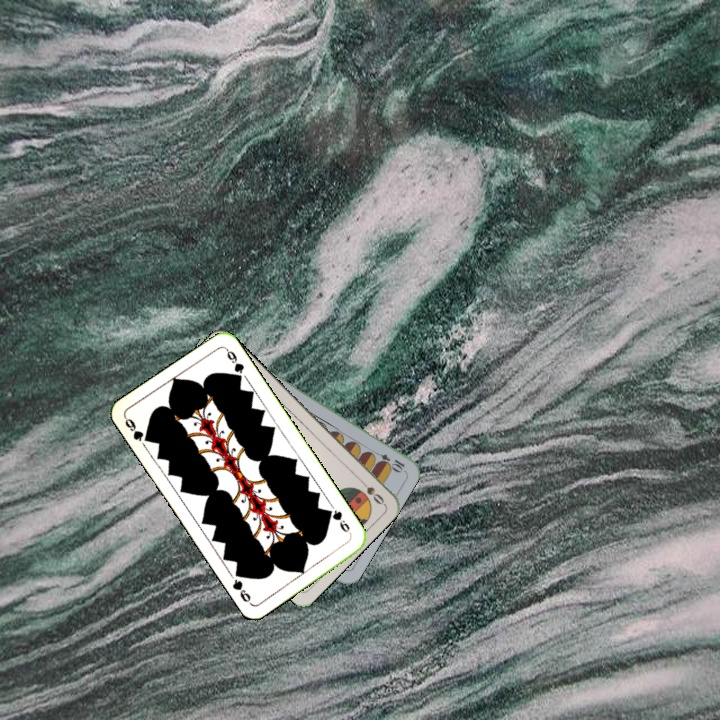E10: (369, 447, 407, 474)
G9: (121, 413, 154, 445), (323, 505, 352, 535)
SO: (354, 474, 387, 507)
